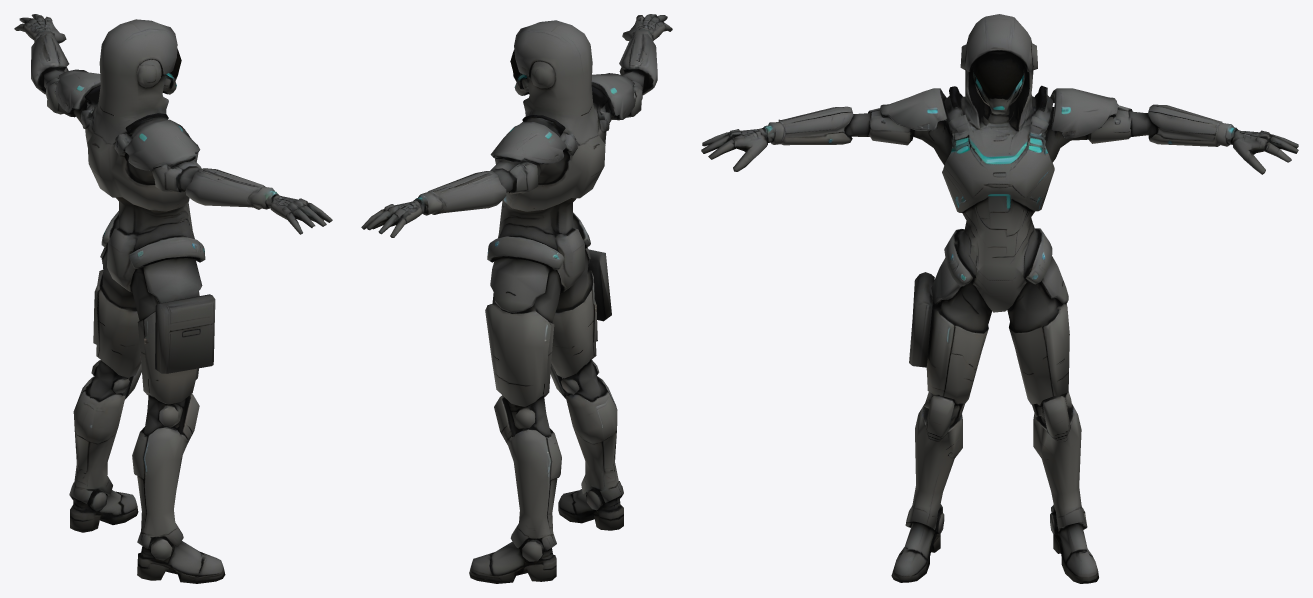
File: vanta_hero.glb
The picture shows the model from 3 angles, left to right: view 1: azimuth 30°, elevation 25°; view 2: azimuth 150°, elevation 25°; view 3: azimuth 270°, elevation 25°; orthographic projection. The views are drawn at different scales.
Visible parts, largest first — view 1: tripo_node_aabb3b21-15d7-4251-900d-1915ecd39769; view 2: tripo_node_aabb3b21-15d7-4251-900d-1915ecd39769; view 3: tripo_node_aabb3b21-15d7-4251-900d-1915ecd39769.
Boxes of the visible parts, x1,y1,x2,y2 form: tripo_node_aabb3b21-15d7-4251-900d-1915ecd39769: (14, 14, 332, 583); tripo_node_aabb3b21-15d7-4251-900d-1915ecd39769: (361, 14, 672, 583); tripo_node_aabb3b21-15d7-4251-900d-1915ecd39769: (701, 14, 1298, 583).
Size of the model in its own units: 0.2051 by 0.998 by 0.9941.
1 material, 1 textured.
